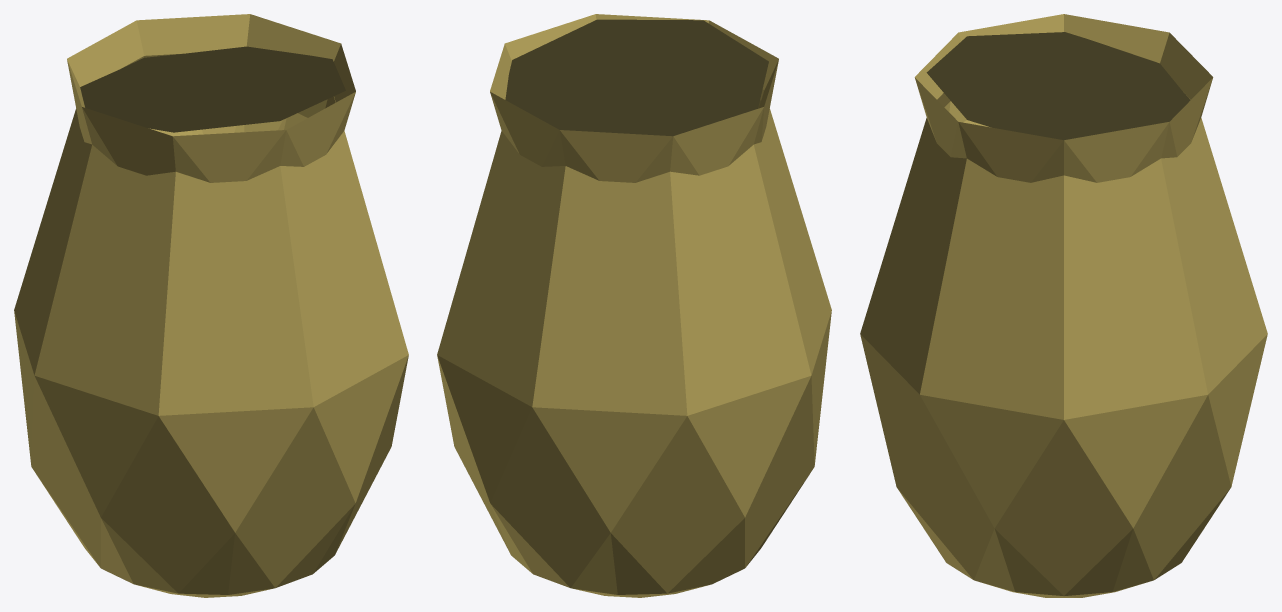
File: vazo.fbx
The picture shows the model from 3 angles, left to right: view 1: azimuth 30°, elevation 25°; view 2: azimuth 150°, elevation 25°; view 3: azimuth 270°, elevation 25°; orthographic projection.
Parts seen in each view (by area): view 1: Cylinder; view 2: Cylinder; view 3: Cylinder.
Boxes of the visible parts, x1,y1,x2,y2 form: Cylinder: (14,14,408,597); Cylinder: (437,14,831,597); Cylinder: (860,14,1267,597).
Bounding box in the file's own units: 291 × 397 × 291.
